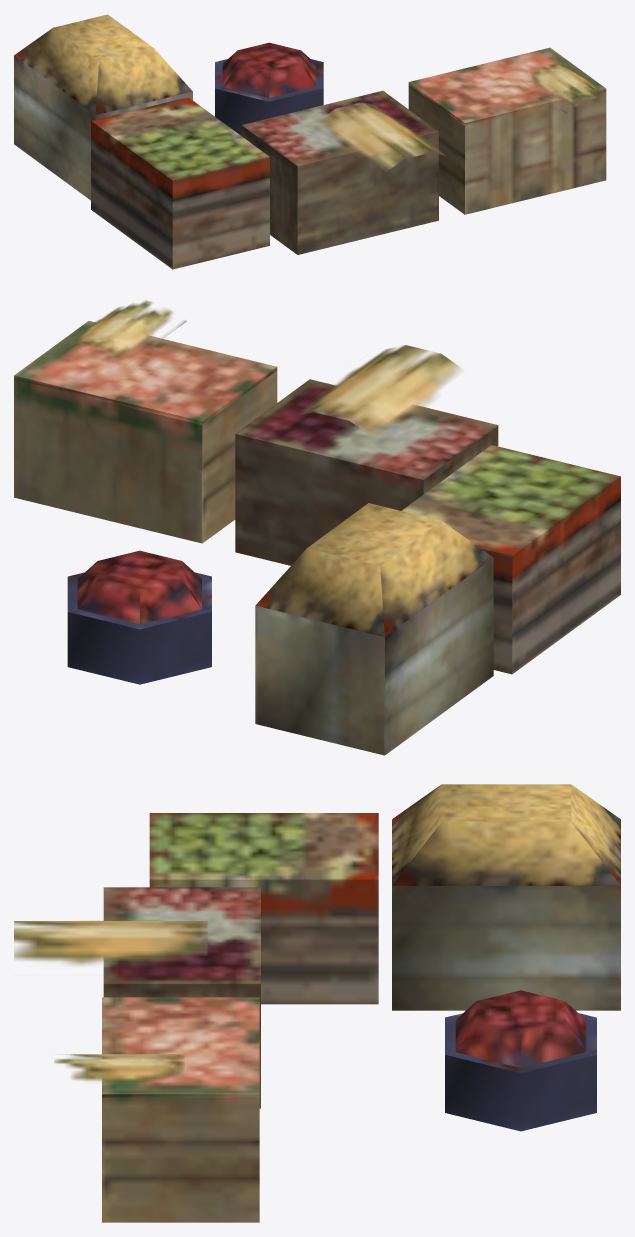
File: Environment - Prop - Market Vender 02 - PMOpmarkV2.glb
3 views of the same model, one above another, from view 1: azimuth 30°, elevation 25°; view 2: azimuth 150°, elevation 25°; view 3: azimuth 270°, elevation 25° (orthographic). The views are drawn at different scales.
Visible parts, largest first — view 1: PMOPMARKV2; view 2: PMOPMARKV2; view 3: PMOPMARKV2.
Boxes of the visible parts, x1,y1,x2,y2 form: PMOPMARKV2: (14,14,606,269); PMOPMARKV2: (14,300,620,755); PMOPMARKV2: (14,784,620,1222).
Bounding box in the file's own units: 10.27 × 2.93 × 9.24.
1 material, 1 textured.
